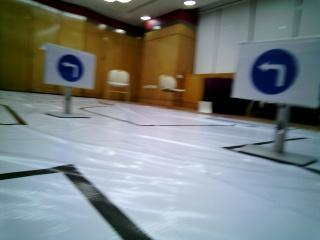left: (236, 41, 320, 99), (47, 46, 95, 88)
